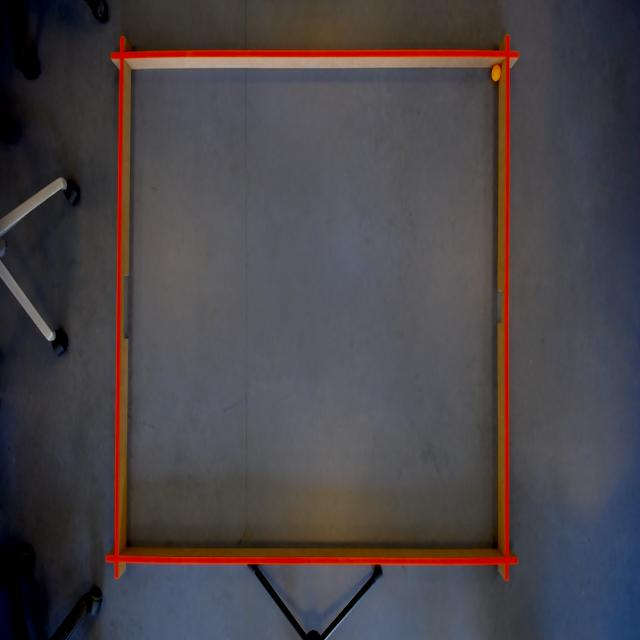orange_ball: (491, 62, 502, 84)
